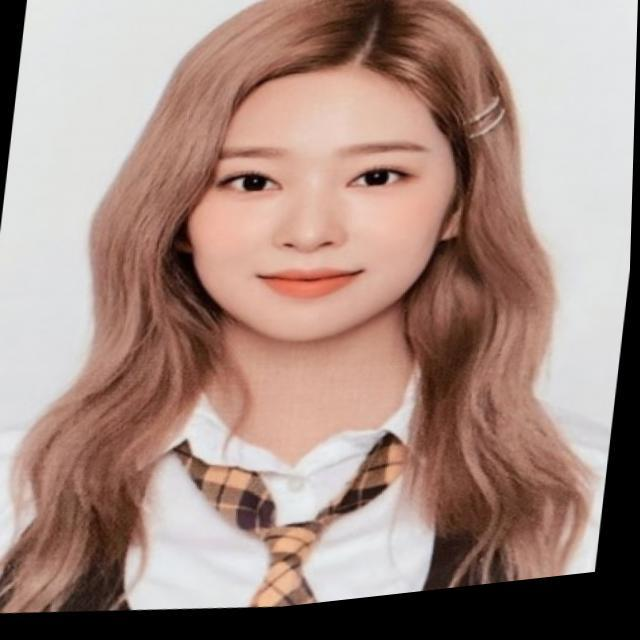Nonhelmet: (166, 3, 483, 336)
